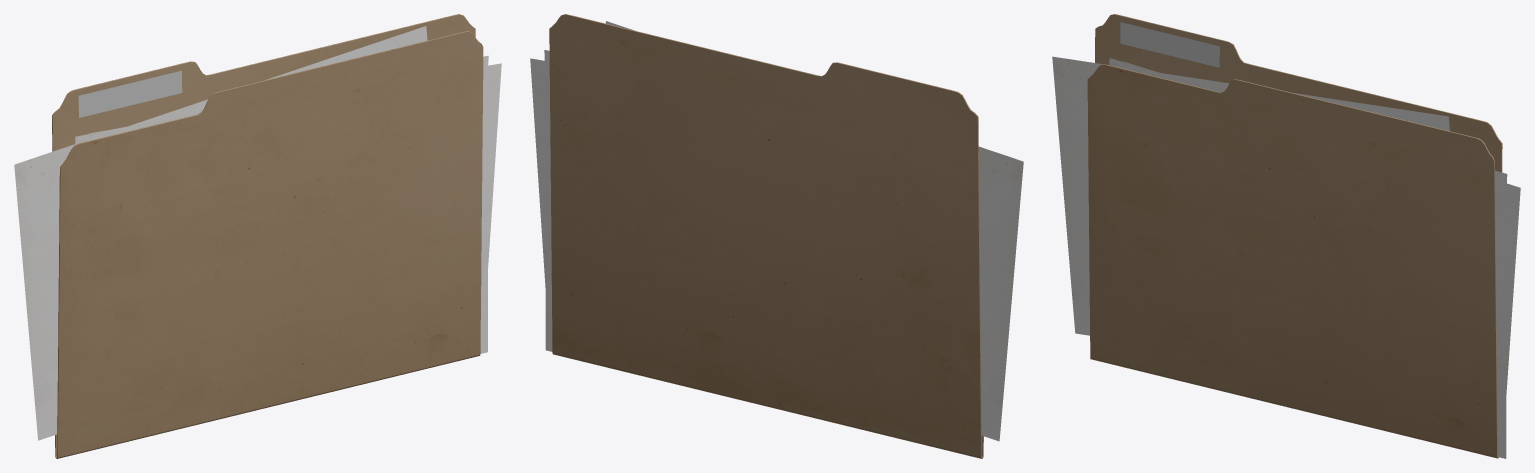
The model's file is split folder.fbx.
3 views of the same model, side by side, from view 1: azimuth 30°, elevation 25°; view 2: azimuth 150°, elevation 25°; view 3: azimuth 330°, elevation 25° (orthographic). The views are drawn at different scales.
Parts seen in each view (by area): view 1: Folder_Left.001, Paper_4_4, Folder_Left, Folder_Name_3, Paper_6, Paper_3_4, Paper_2_4; view 2: Folder_Left, Paper_4_4, Paper_3_4; view 3: Folder_Left.001, Paper_4_4, Folder_Left, Paper_6, Folder_Name_3, Paper_3_4, Paper_2_4.
Part boxes in pixels (x1=…): Folder_Left.001: x1=56, y1=31, x2=483, y2=458; Paper_4_4: x1=14, y1=26, x2=427, y2=440; Folder_Left: x1=52, y1=14, x2=475, y2=458; Folder_Name_3: x1=78, y1=70, x2=182, y2=117; Paper_6: x1=480, y1=69, x2=487, y2=353; Paper_3_4: x1=89, y1=63, x2=501, y2=266; Paper_2_4: x1=75, y1=55, x2=488, y2=144; Folder_Left: x1=549, y1=14, x2=982, y2=458; Paper_4_4: x1=605, y1=21, x2=1023, y2=441; Paper_3_4: x1=530, y1=58, x2=552, y2=349; Folder_Left.001: x1=1087, y1=64, x2=1498, y2=458; Paper_4_4: x1=1052, y1=56, x2=1449, y2=335; Folder_Left: x1=1095, y1=14, x2=1502, y2=457; Paper_6: x1=1495, y1=184, x2=1506, y2=458; Folder_Name_3: x1=1120, y1=22, x2=1219, y2=67; Paper_3_4: x1=1124, y1=61, x2=1520, y2=394; Paper_2_4: x1=1109, y1=58, x2=1507, y2=191.
Size of the model in its own units: 8.5 by 6.01 by 0.2761.
